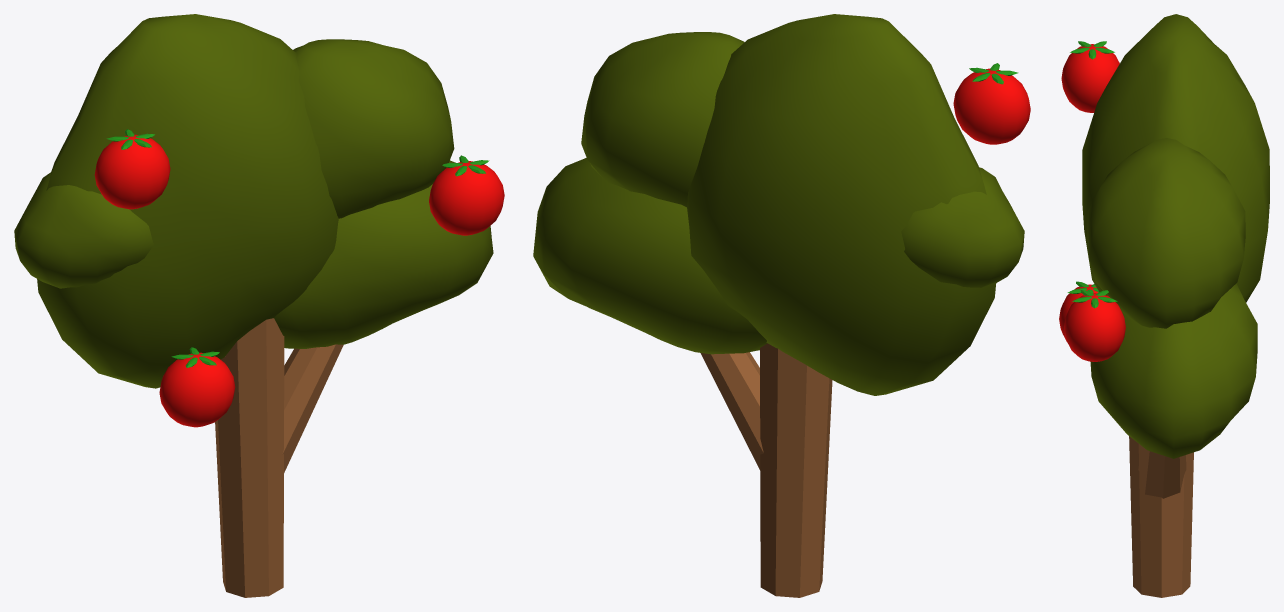
Rendered from fruit_tree.glb.
The picture shows the model from 3 angles, left to right: view 1: azimuth 30°, elevation 25°; view 2: azimuth 150°, elevation 25°; view 3: azimuth 270°, elevation 25°; orthographic projection. The views are drawn at different scales.
Parts seen in each view (by area): view 1: Organic canopy 1, Organic canopy 3, Organic canopy 2, Tapered main trunk, Organic canopy 4, Red fruit 1, Red fruit 2, Red fruit 3, Right rising branch; view 2: Organic canopy 1, Organic canopy 2, Organic canopy 3, Tapered main trunk, Organic canopy 4, Red fruit 1, Right rising branch; view 3: Organic canopy 3, Organic canopy 1, Organic canopy 2, Tapered main trunk, Red fruit 2, Red fruit 1, Right rising branch, Red fruit 3.
Boxes of the visible parts, <box> form: Organic canopy 1: <box>37,14,338,388</box>; Organic canopy 3: <box>293,39,454,218</box>; Organic canopy 2: <box>274,160,493,348</box>; Tapered main trunk: <box>215,318,284,597</box>; Organic canopy 4: <box>14,172,153,288</box>; Red fruit 1: <box>94,134,170,209</box>; Red fruit 2: <box>429,161,504,235</box>; Red fruit 3: <box>159,352,235,427</box>; Right rising branch: <box>282,344,343,472</box>; Organic canopy 1: <box>687,14,996,395</box>; Organic canopy 2: <box>533,158,767,354</box>; Organic canopy 3: <box>581,32,744,207</box>; Tapered main trunk: <box>760,343,832,597</box>; Organic canopy 4: <box>901,167,1024,287</box>; Red fruit 1: <box>953,68,1030,144</box>; Right rising branch: <box>700,352,763,470</box>; Organic canopy 3: <box>1087,138,1245,328</box>; Organic canopy 1: <box>1082,14,1269,302</box>; Organic canopy 2: <box>1090,283,1257,458</box>; Tapered main trunk: <box>1129,436,1193,597</box>; Red fruit 2: <box>1064,293,1125,361</box>; Red fruit 1: <box>1061,44,1119,112</box>; Right rising branch: <box>1138,446,1186,498</box>; Red fruit 3: <box>1059,284,1098,342</box>.
Size of the model in its own units: 2.1 by 2.44 by 0.8828.
